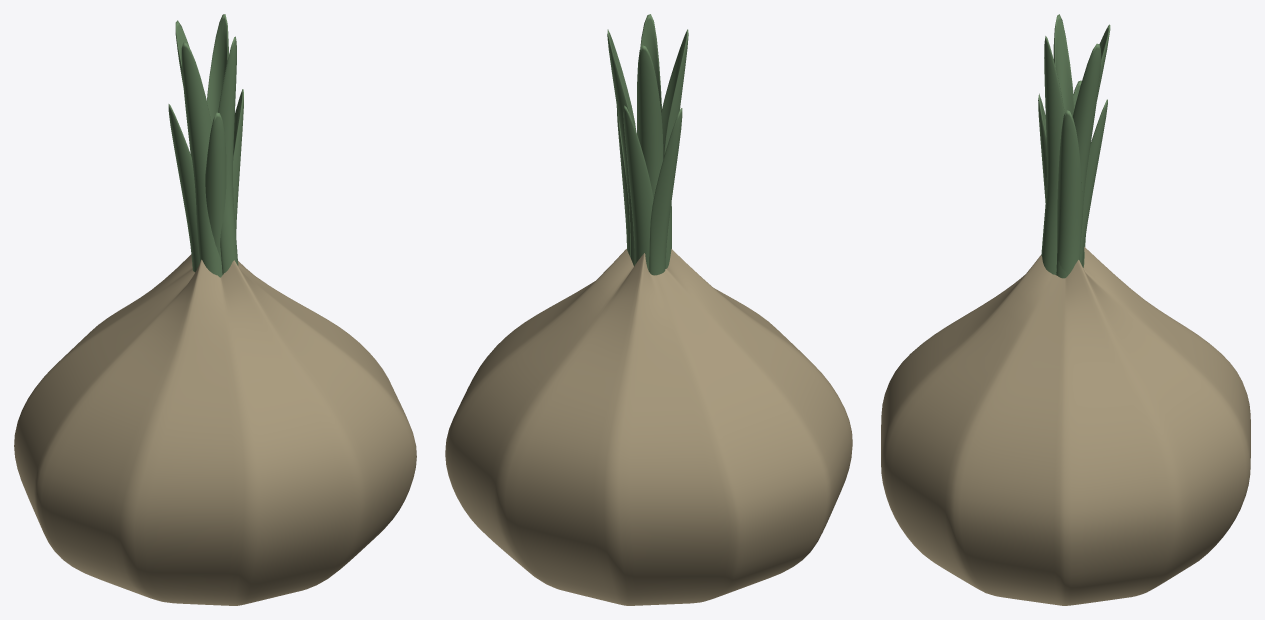
File: Onion.fbx
3 renders of one model, left to right at view 1: azimuth 30°, elevation 25°; view 2: azimuth 150°, elevation 25°; view 3: azimuth 270°, elevation 25°, orthographic.
Parts seen in each view (by area): view 1: pSphere1, pPlane7, pPlane6; view 2: pSphere1, pPlane7, pPlane6; view 3: pSphere1, pPlane7, pPlane6.
Part boxes in pixels (box(x1,y1,x2,y2)): pSphere1: box(14, 254, 416, 605); pPlane7: box(175, 14, 238, 277); pPlane6: box(168, 89, 243, 272); pSphere1: box(445, 249, 852, 605); pPlane7: box(607, 14, 688, 268); pPlane6: box(616, 105, 682, 275); pSphere1: box(881, 247, 1250, 605); pPlane7: box(1041, 14, 1110, 278); pPlane6: box(1038, 80, 1107, 276).
Size of the model in its own units: 2.08 by 3.05 by 1.87.
